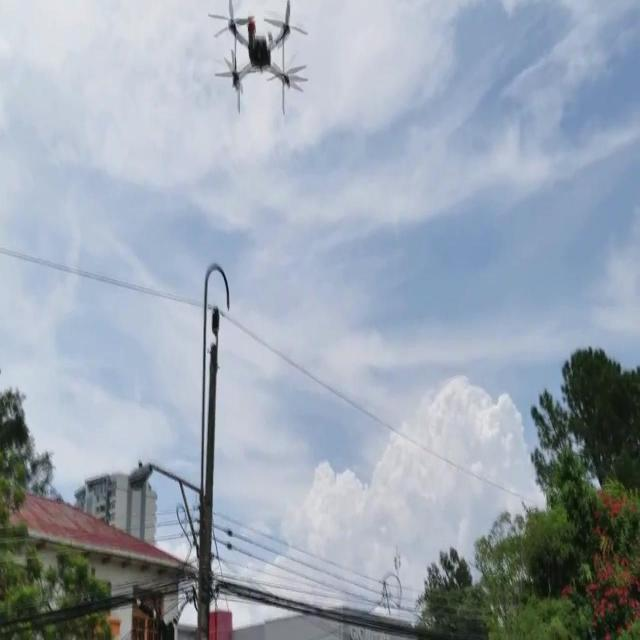UAV: (208, 0, 308, 116)
